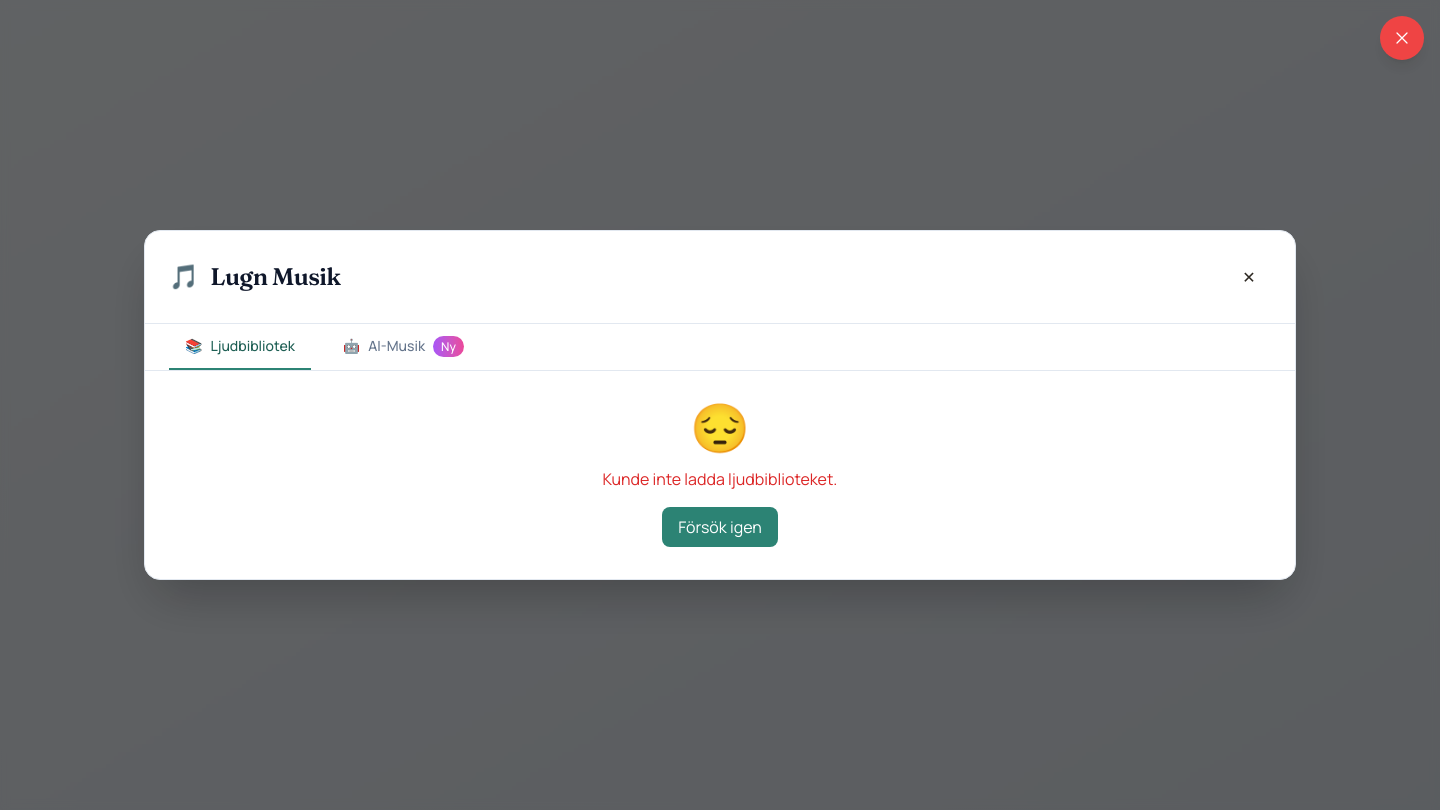
it: RelaxingSounds › shows retry button on error and retries on click
The image size is (1440, 810).
Step 1. Click the button "Försök igen" → point(720, 527), box [662,507,778,547]
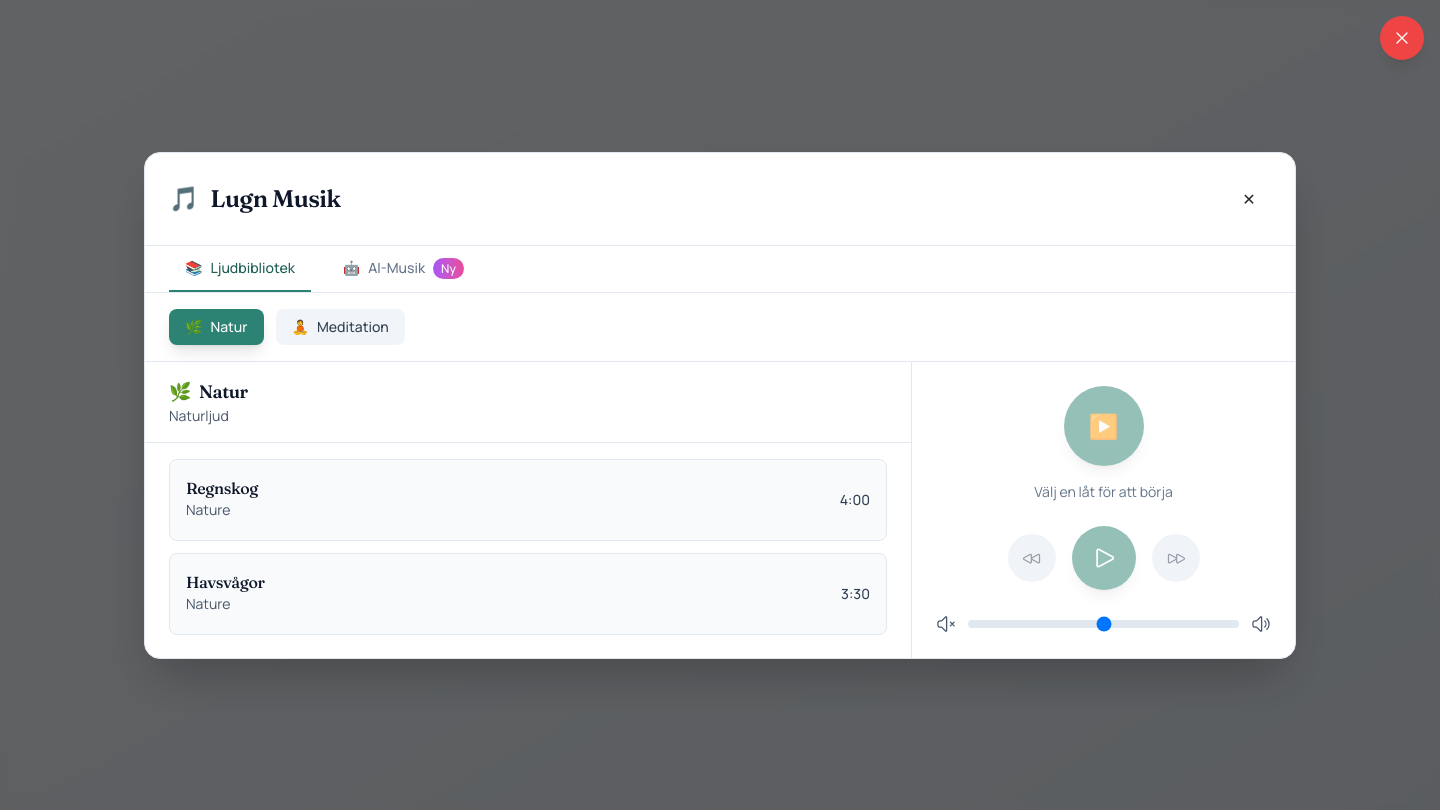
Now the heading "Regnskog" is shown, box [186,478,258,498]
